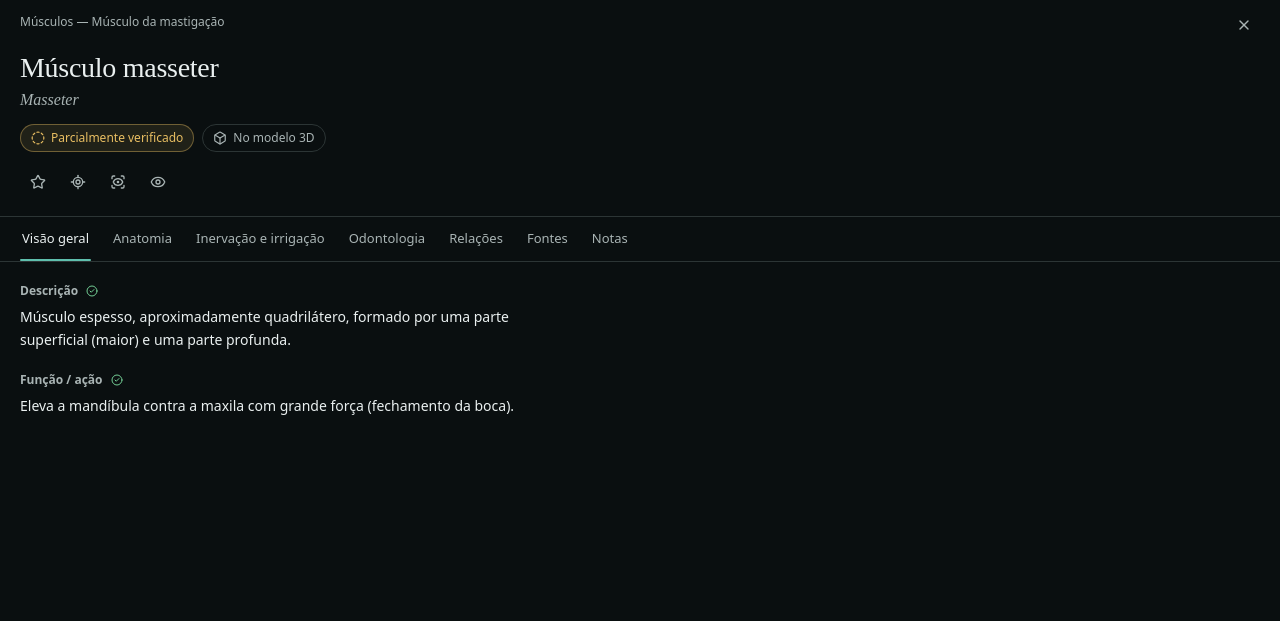
Test: painel de detalhes › apresenta os campos do músculo com origem, inserção e inervação
Expected: the heading "Músculo masseter" is shown, 20,52 -> 218,83
Expected: the text "Masseter" is shown, 20,91 -> 79,108
Click the tab "Anatomia": (142,239) 103,217 -> 182,261
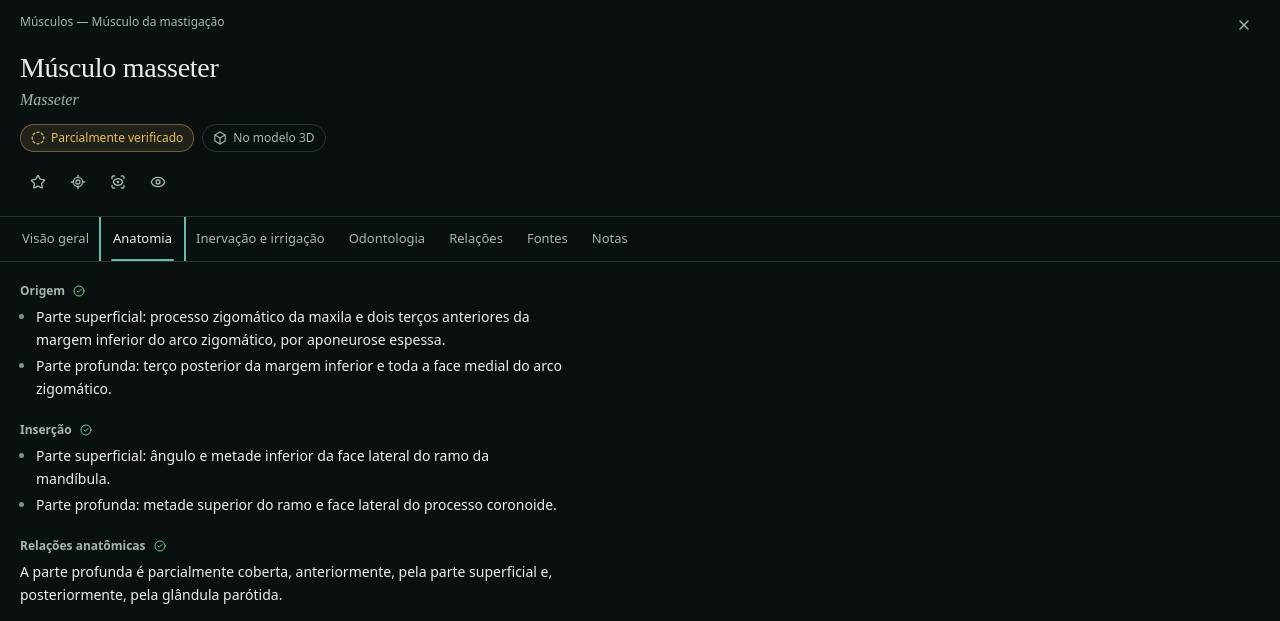
Now the heading "Origem" is shown, box 20,282 -> 167,307
Now the heading "Inserção" is shown, box 20,421 -> 173,446
Click the tab "Inervação e irrigação": (260,239) 186,217 -> 335,261
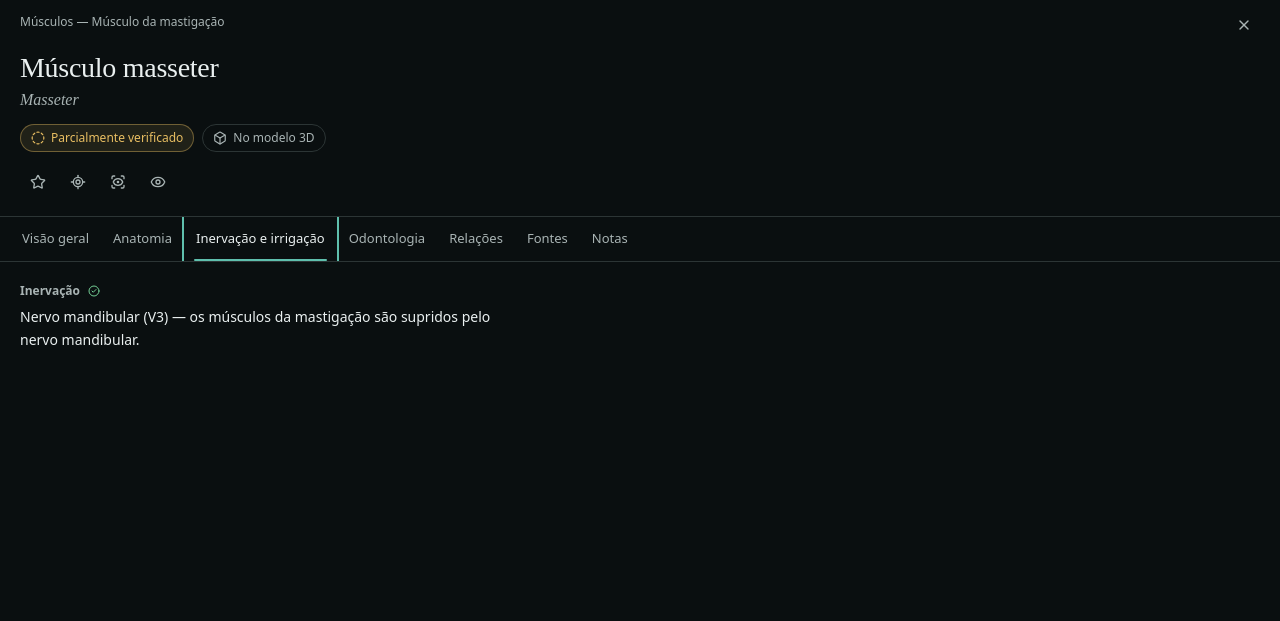
Now the text "Nervo mandibular (V3)" is shown, box 20,307 -> 490,349
